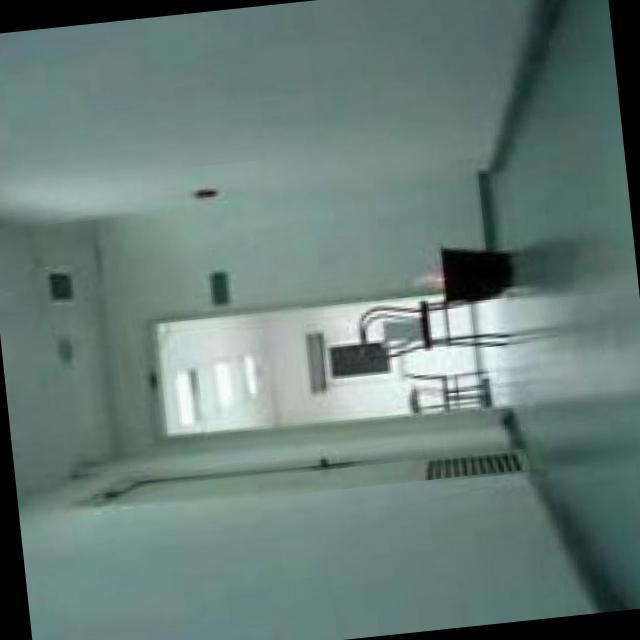Fire: (408, 266, 442, 292)
